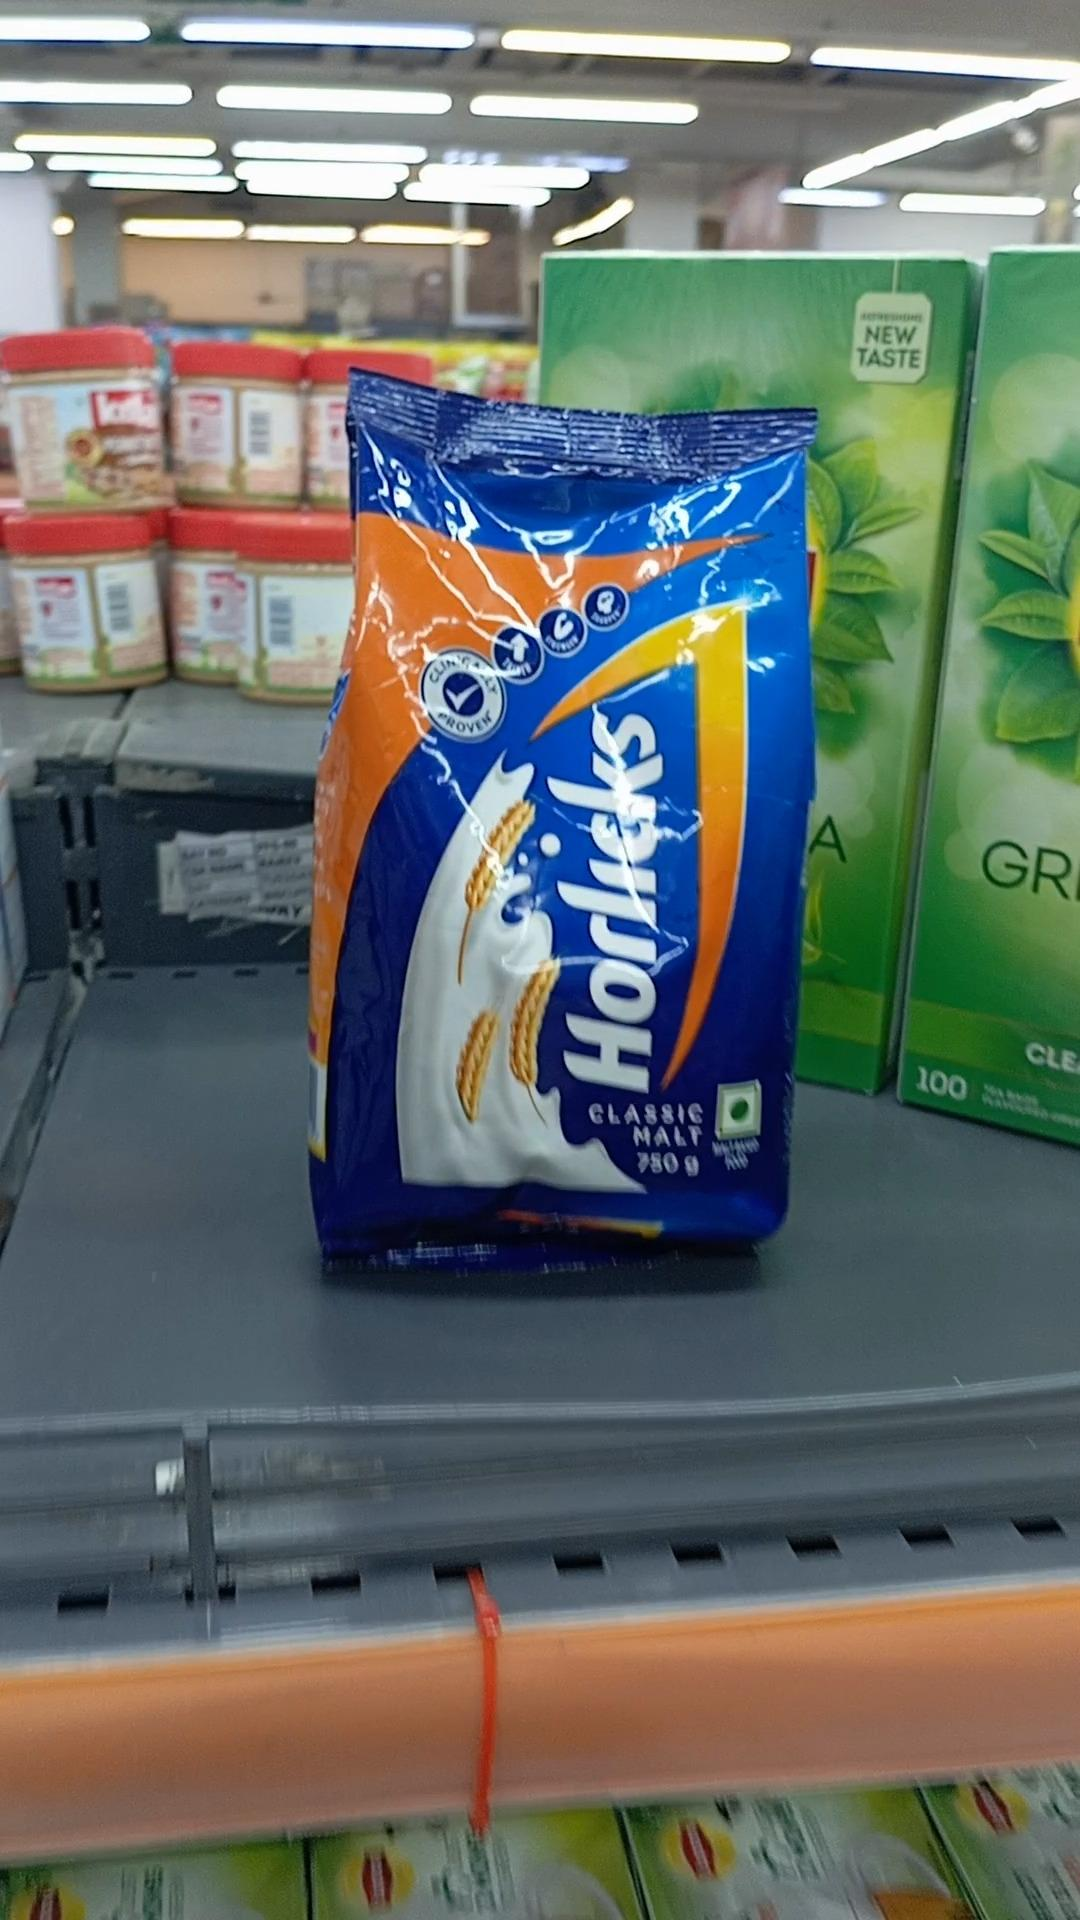HORLICK_CLASSIC_MALT_750_G_POUCH: (336, 375, 800, 1254)
